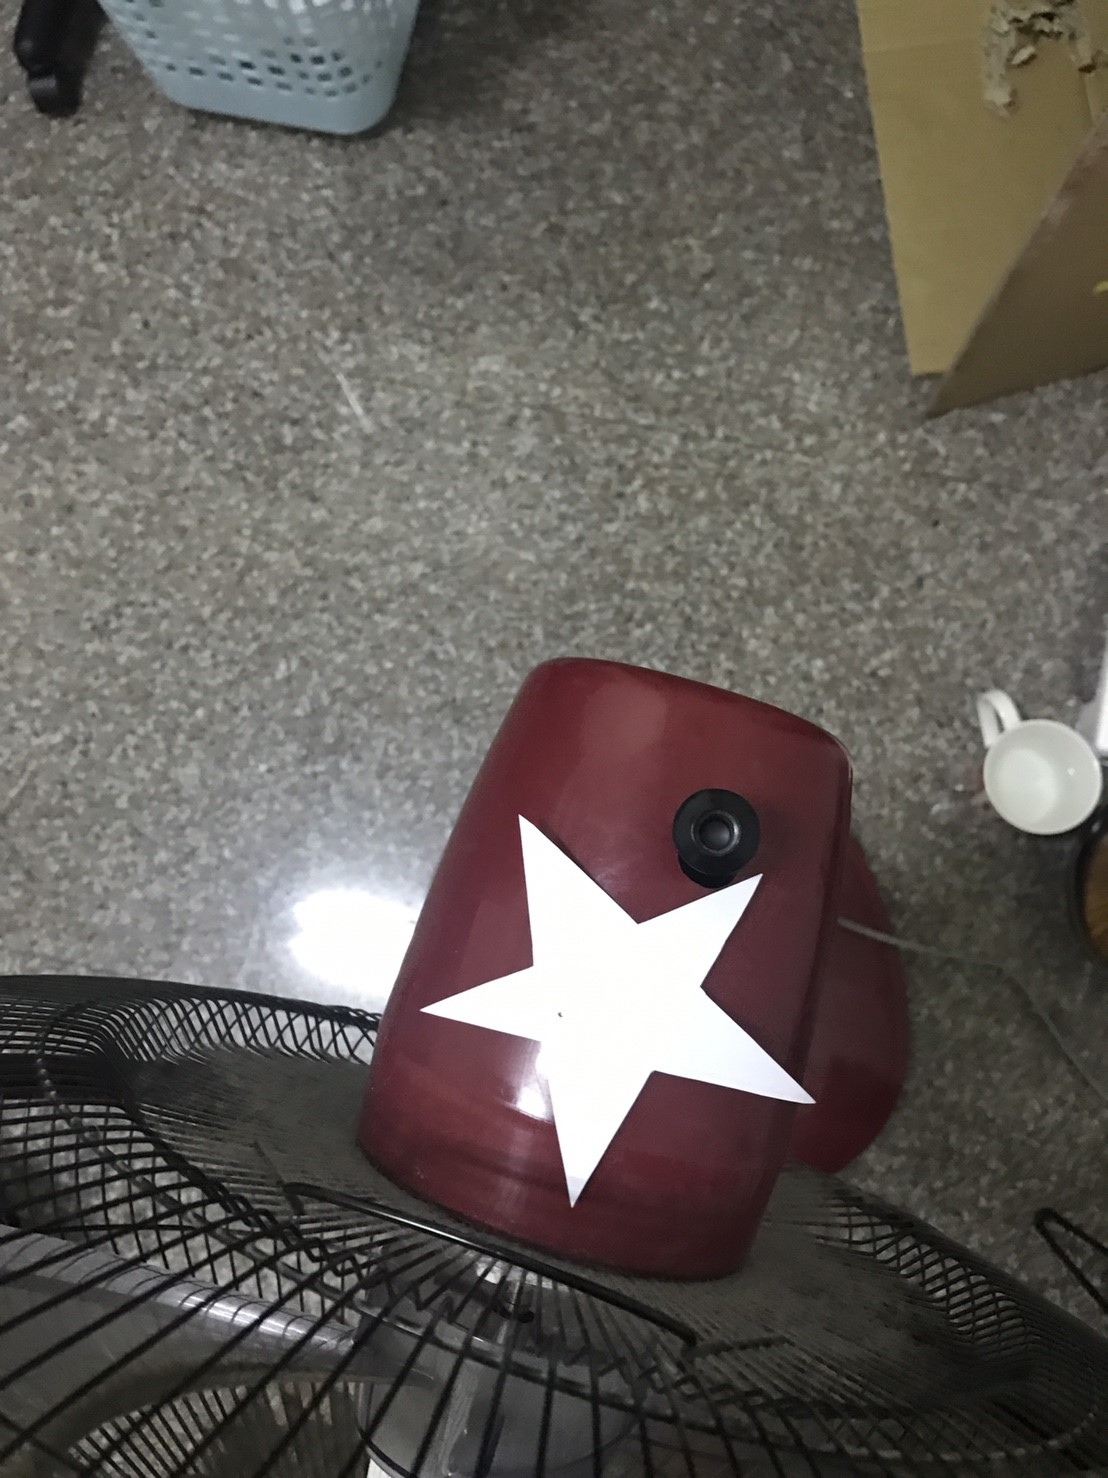star: (398, 790, 862, 1216)
